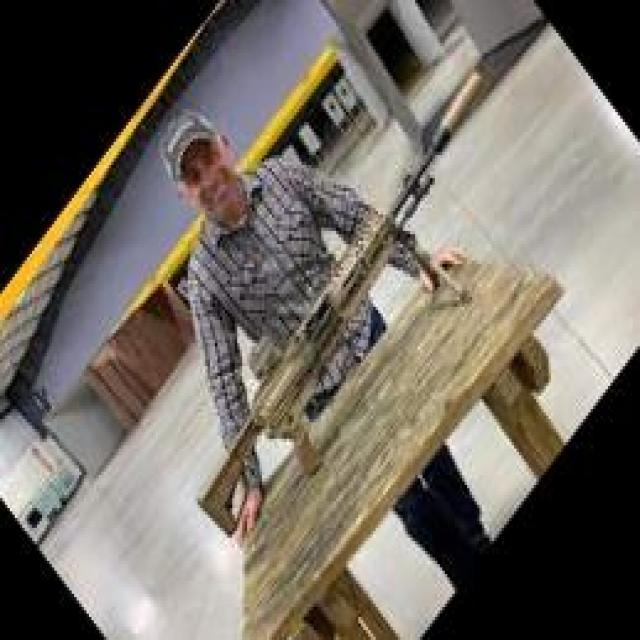weapon: (195, 71, 486, 539)
